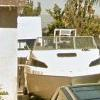Boat: (27, 26, 100, 94)
